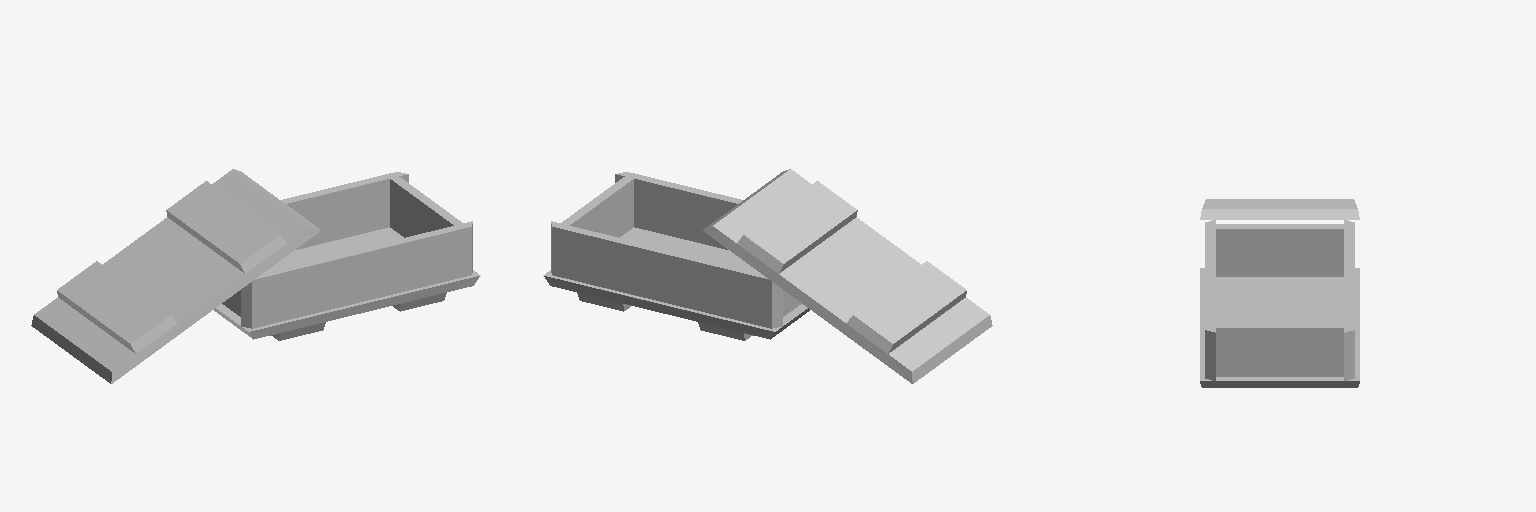
The model's file is Crate-04.obj.
3 views of the same model, side by side, from view 1: azimuth 30°, elevation 25°; view 2: azimuth 150°, elevation 25°; view 3: azimuth 270°, elevation 25° (orthographic).
Visible parts, largest first — view 1: Crate_04; view 2: Crate_04; view 3: Crate_04.
Boxes of the visible parts, x1,y1,x2,y2 form: Crate_04: [31, 169, 480, 383]; Crate_04: [543, 169, 992, 383]; Crate_04: [1200, 199, 1359, 387].
Size of the model in its own units: 0.5968 by 0.1689 by 0.2242.